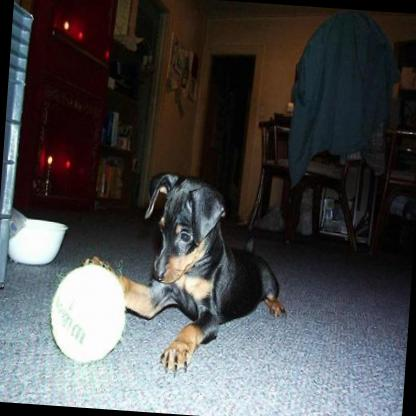miniature_pinscher: (73, 160, 298, 384)
